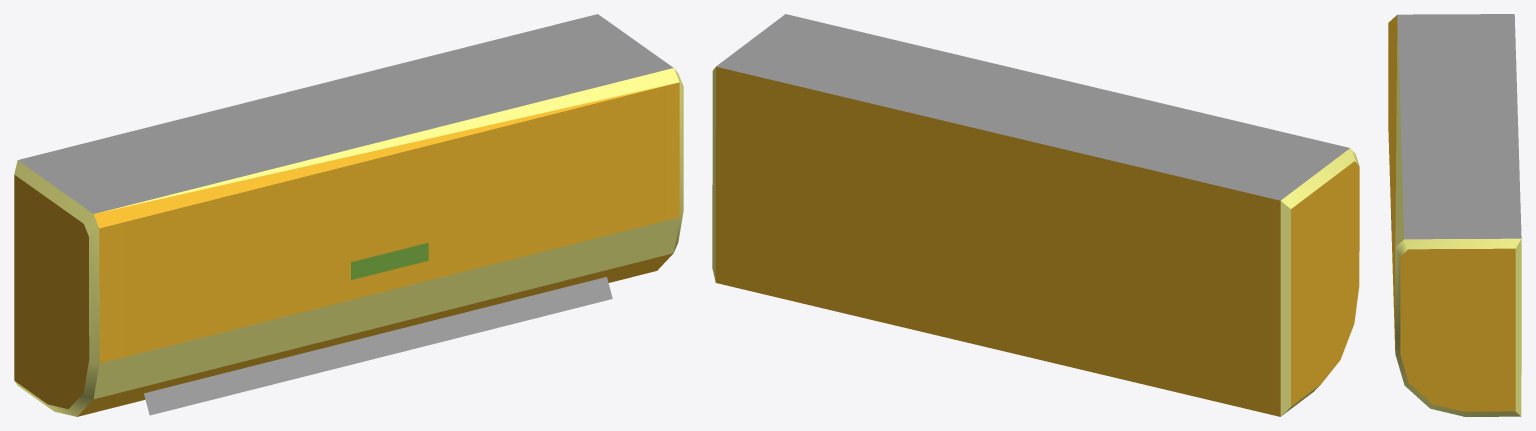
3 views of the same model, side by side, from view 1: azimuth 30°, elevation 25°; view 2: azimuth 150°, elevation 25°; view 3: azimuth 270°, elevation 25° (orthographic). The views are drawn at different scales.
Visible parts, largest first — view 1: AC; view 2: AC; view 3: AC.
Part boxes in pixels (x1=…): AC: x1=14, y1=14, x2=683, y2=416; AC: x1=712, y1=14, x2=1359, y2=416; AC: x1=1388, y1=14, x2=1521, y2=416.
Bounding box in the file's own units: 34.27 × 12.32 × 8.34.
